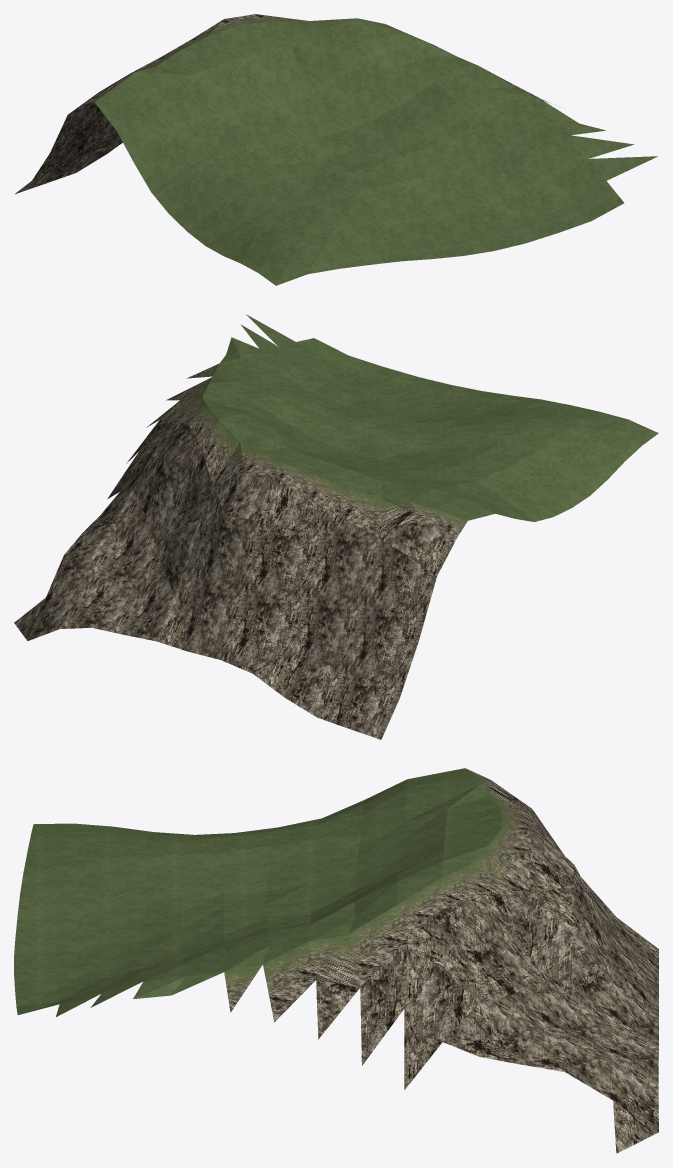
File: a_carisle_mid_landmass_00_01.fbx
The picture shows the model from 3 angles, top to bottom: view 1: azimuth 30°, elevation 25°; view 2: azimuth 150°, elevation 25°; view 3: azimuth 270°, elevation 25°; orthographic projection. The views are drawn at different scales.
Visible parts, largest first — view 1: a_carisle_mid_landmass_00_01; view 2: a_carisle_mid_landmass_00_01; view 3: a_carisle_mid_landmass_00_01.
Boxes of the visible parts, x1,y1,x2,y2 form: a_carisle_mid_landmass_00_01: (15, 14, 657, 285); a_carisle_mid_landmass_00_01: (14, 314, 658, 739); a_carisle_mid_landmass_00_01: (14, 768, 658, 1153).
Bounding box in the file's own units: 28.86 × 34.73 × 12.78.
